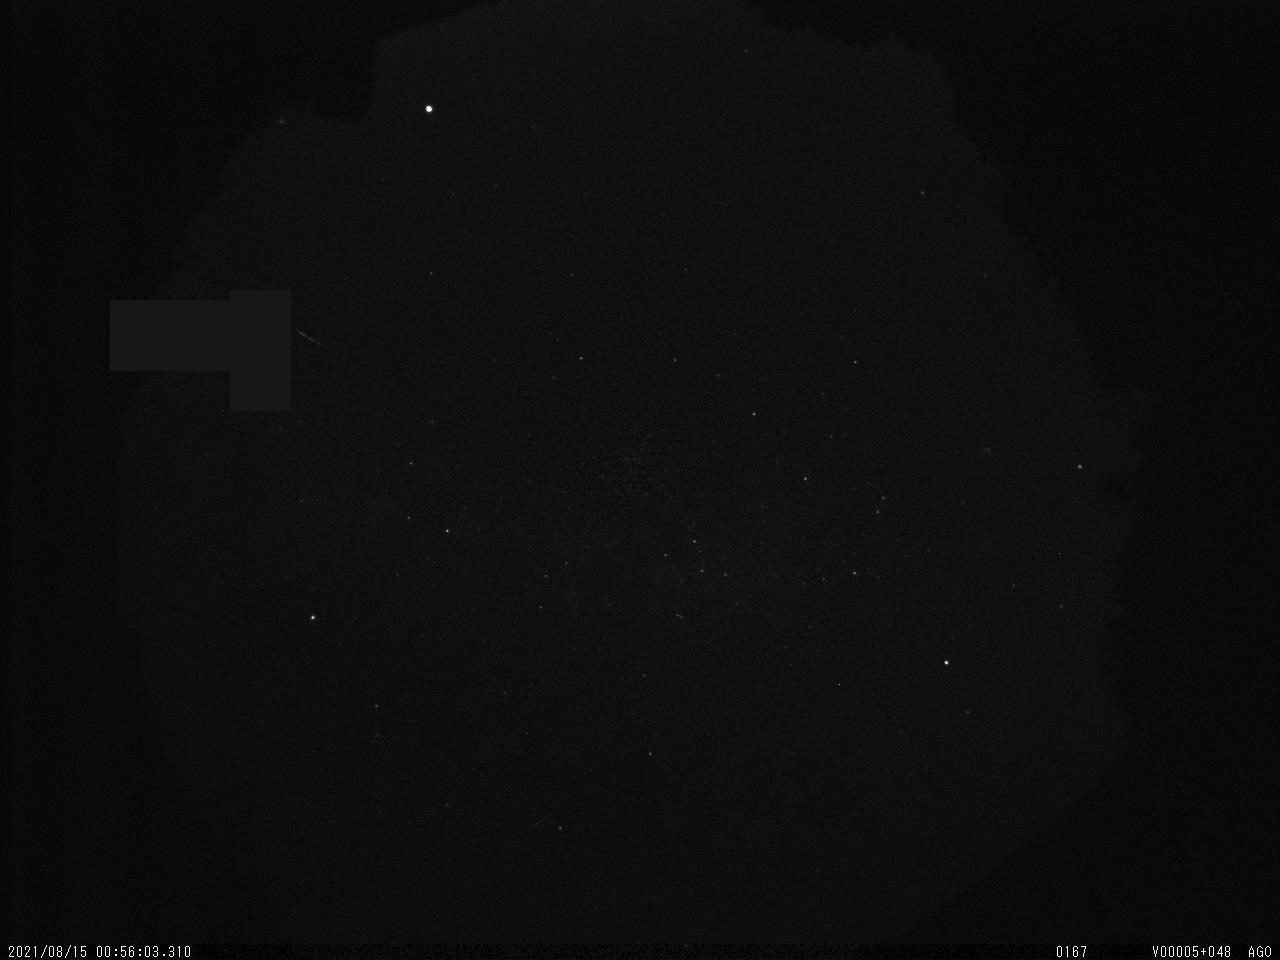Meteor: (289, 316, 336, 357)
